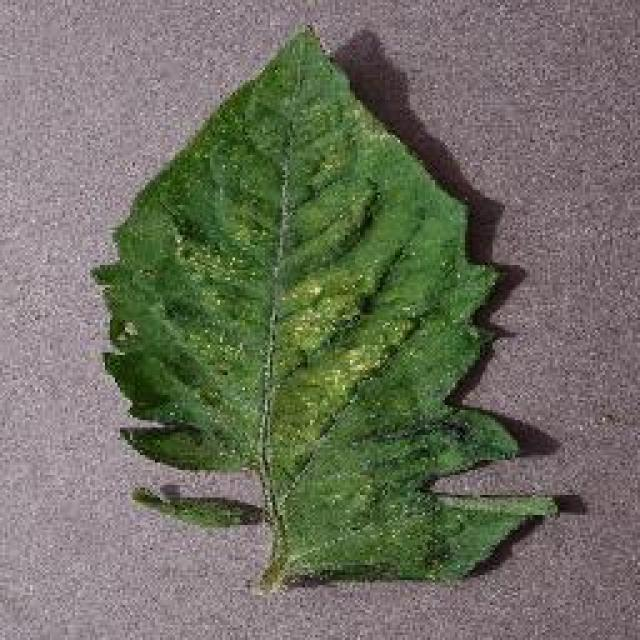Tom_Spider_mites Two-spotted_spider_mite: (206, 180, 414, 445)
